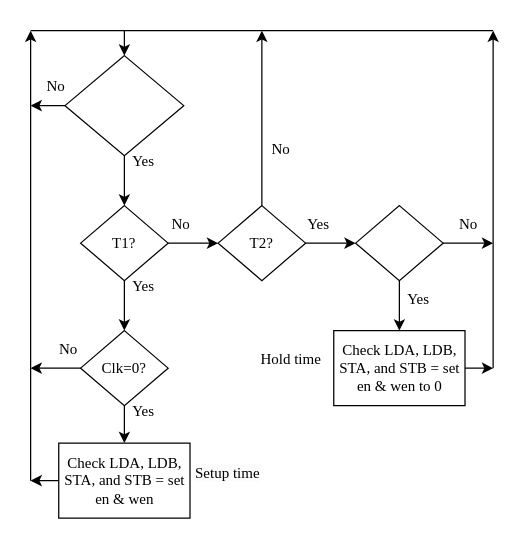
The diagram is 525 pixels wide and 540 high, and some of its shapes have lost their labels. Here are the shapes that lost their labels. From the top down, the centre of each, then its label:
(124,105): Falling Edge mclk?
(398,242): Clk=1?
